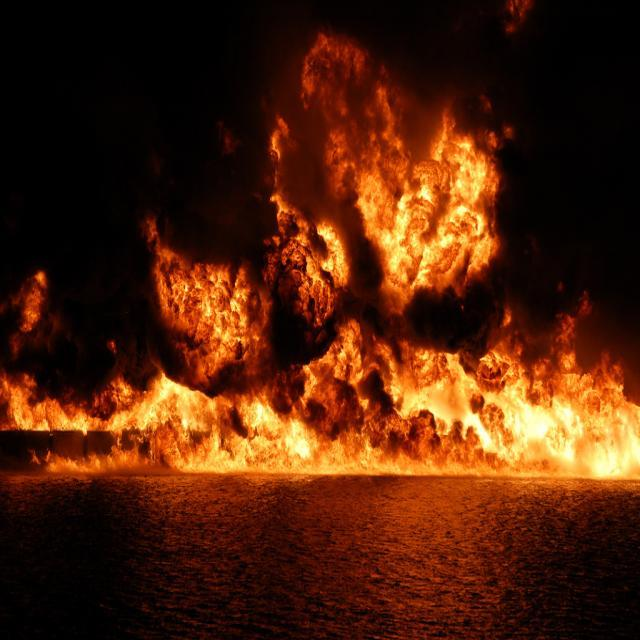Fire: (418, 373, 630, 470), (127, 388, 301, 470), (380, 155, 492, 266)
